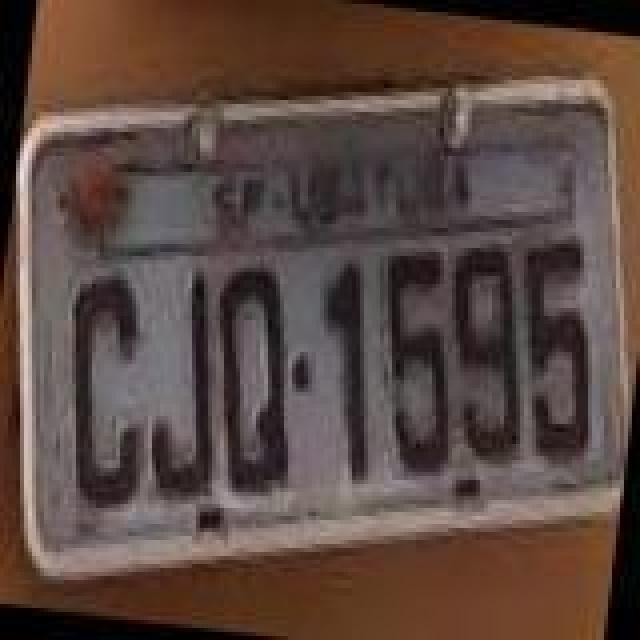1: (298, 256, 390, 488)
5: (498, 234, 614, 470), (360, 242, 472, 478)
9: (432, 242, 544, 462)
C: (44, 256, 164, 512)
J: (138, 256, 238, 504)
Q: (194, 258, 318, 502)
